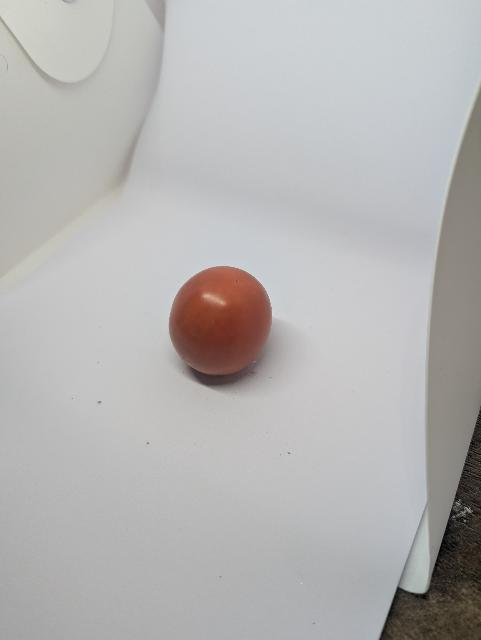red: (160, 255, 292, 393)
